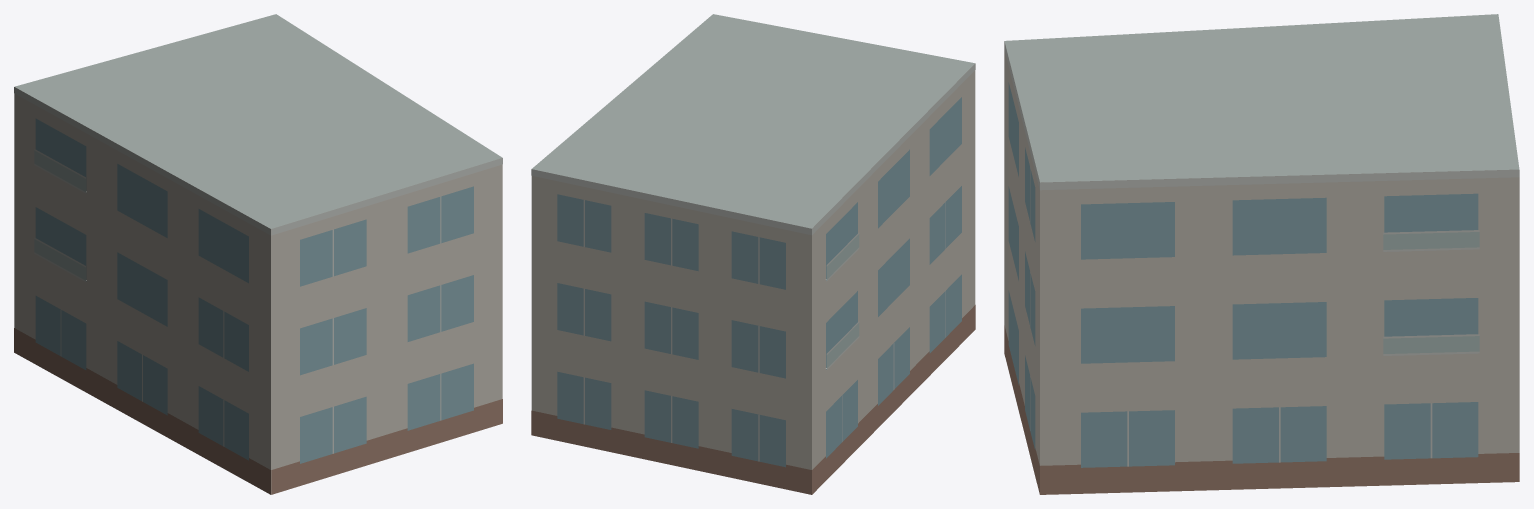
File: survey-upis-33034197.glb
3 renders of one model, left to right at view 1: azimuth 30°, elevation 25°; view 2: azimuth 150°, elevation 25°; view 3: azimuth 270°, elevation 25°, orthographic. The views are drawn at different scales.
Visible parts, largest first — view 1: survey-upis-33034197.tmp; view 2: survey-upis-33034197.tmp; view 3: survey-upis-33034197.tmp.
Part boxes in pixels (box(x1,y1,x2,y2)): survey-upis-33034197.tmp: box(14, 14, 502, 494); survey-upis-33034197.tmp: box(531, 14, 975, 494); survey-upis-33034197.tmp: box(1004, 14, 1519, 494).
Bounding box in the file's own units: 11.4 × 9.85 × 14.73.
